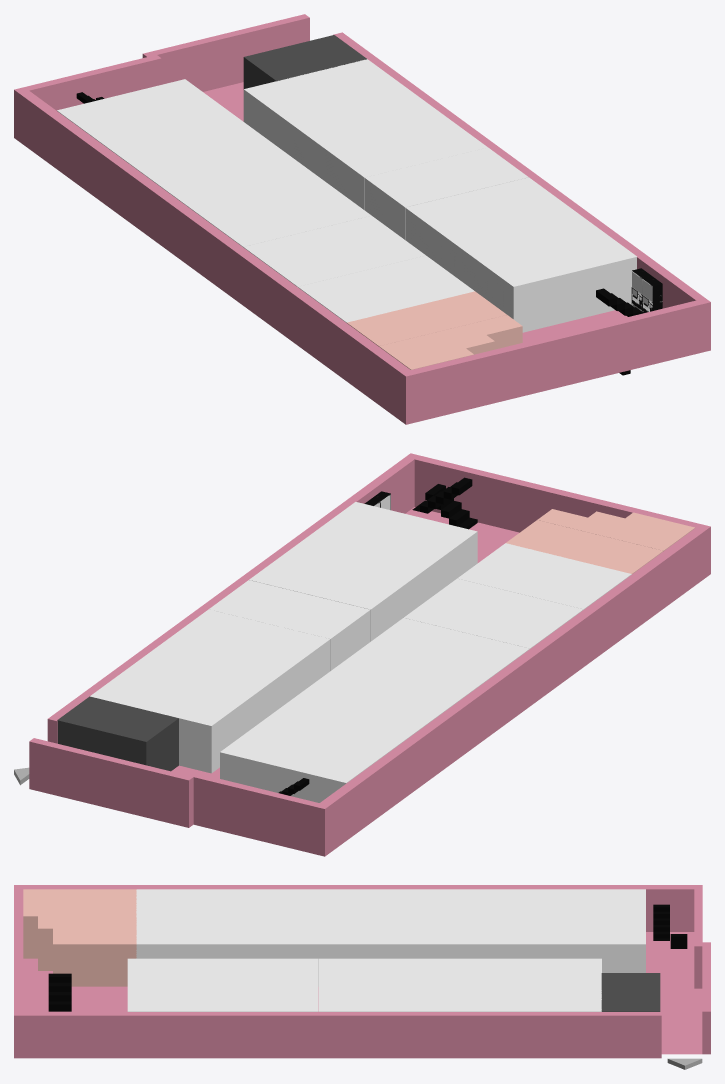
3 views of the same model, one above another, from view 1: azimuth 30°, elevation 25°; view 2: azimuth 150°, elevation 25°; view 3: azimuth 270°, elevation 25° (orthographic). The views are drawn at different scales.
Parts seen in each view (by area): view 1: object, 3212, 3211, 3202, 3210, 3209, 3207, 3201, 3208, 3203, 3206, 3205 (+6 smaller); view 2: object, 3211, 3212, 3207, 3202, エレベーター_3_2_1, 3210, 3209, 3201, 3208, 学友会室, 3205 (+6 smaller); view 3: object, 3202, 3201, 男子トイレ_3_2_1, 3212, 3211, 3203, 3204, 3206, 3205, 女子トイレ_3_2_1, 3210 (+8 smaller).
Boxes of the visible parts, x1,y1,x2,y2 form: object: [14, 14, 710, 424]; 3212: [459, 217, 637, 332]; 3211: [405, 177, 582, 279]; 3202: [243, 215, 425, 286]; 3210: [364, 147, 528, 239]; 3209: [324, 118, 487, 209]; 3207: [243, 59, 407, 151]; 3201: [298, 255, 474, 322]; 3208: [284, 88, 447, 180]; 3203: [202, 186, 371, 246]; 3206: [81, 97, 249, 158]; 3205: [122, 127, 290, 187]; object: [29, 453, 710, 856]; 3211: [249, 541, 424, 641]; 3212: [302, 502, 477, 602]; 3207: [90, 667, 251, 773]; 3202: [404, 578, 583, 648]; エレベーター_3_2_1: [57, 696, 178, 771]; 3210: [209, 580, 370, 670]; 3209: [169, 609, 330, 699]; 3201: [457, 543, 631, 609]; 3208: [130, 638, 291, 728]; 学友会室: [220, 734, 370, 802]; 3205: [284, 676, 449, 736]; object: [14, 885, 710, 1058]; 3202: [222, 889, 318, 986]; 3201: [136, 889, 222, 958]; 男子トイレ_3_2_1: [80, 889, 136, 986]; 3212: [127, 958, 222, 1011]; 3211: [222, 958, 317, 1011]; 3203: [318, 889, 389, 958]; 3204: [389, 889, 460, 958]; 3206: [531, 889, 602, 972]; 3205: [460, 889, 531, 958]; 女子トイレ_3_2_1: [23, 889, 79, 986]; 3210: [318, 958, 389, 1011].
Bounding box in the file's own units: 1.21 × 0.233 × 2.55.
32 materials, 7 textured.
